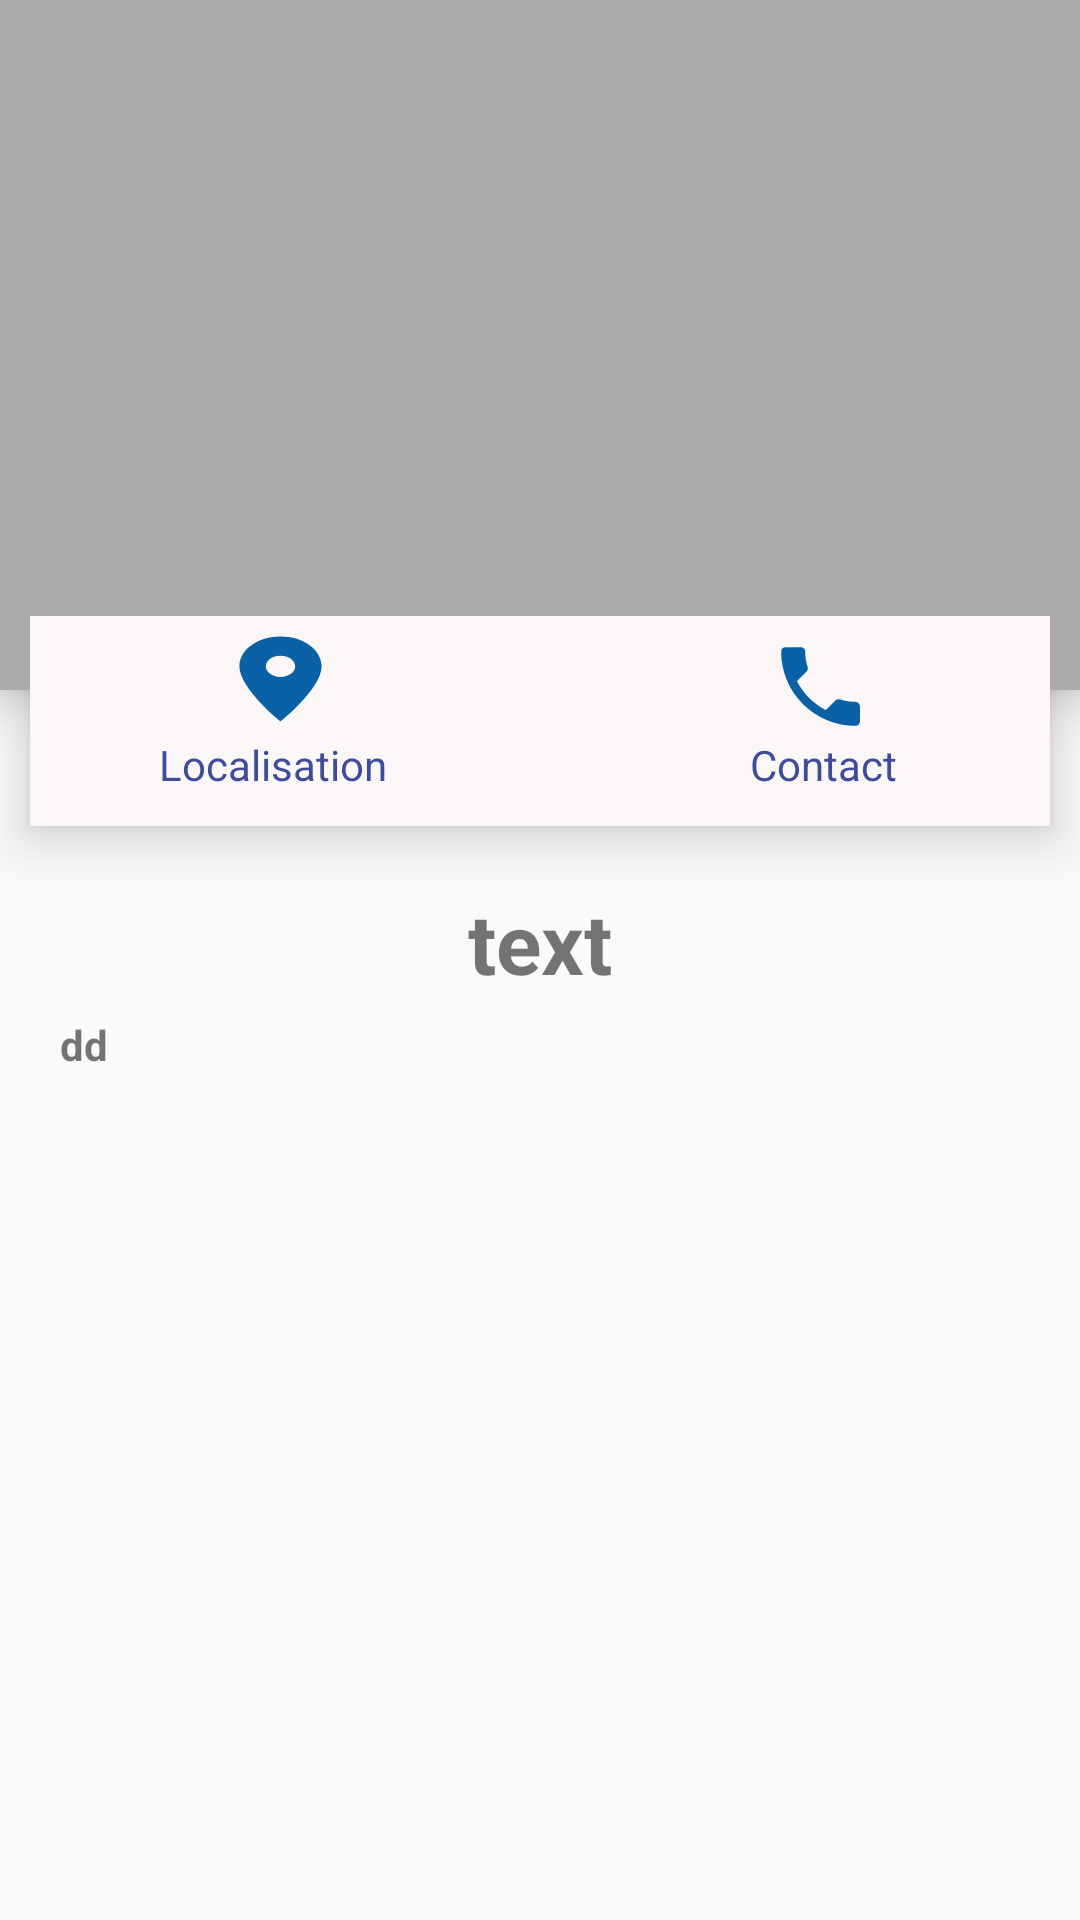

Where to tap for icons on this 1080w x 1920h app screen, as [x,y]:
local phone: [820,686]
